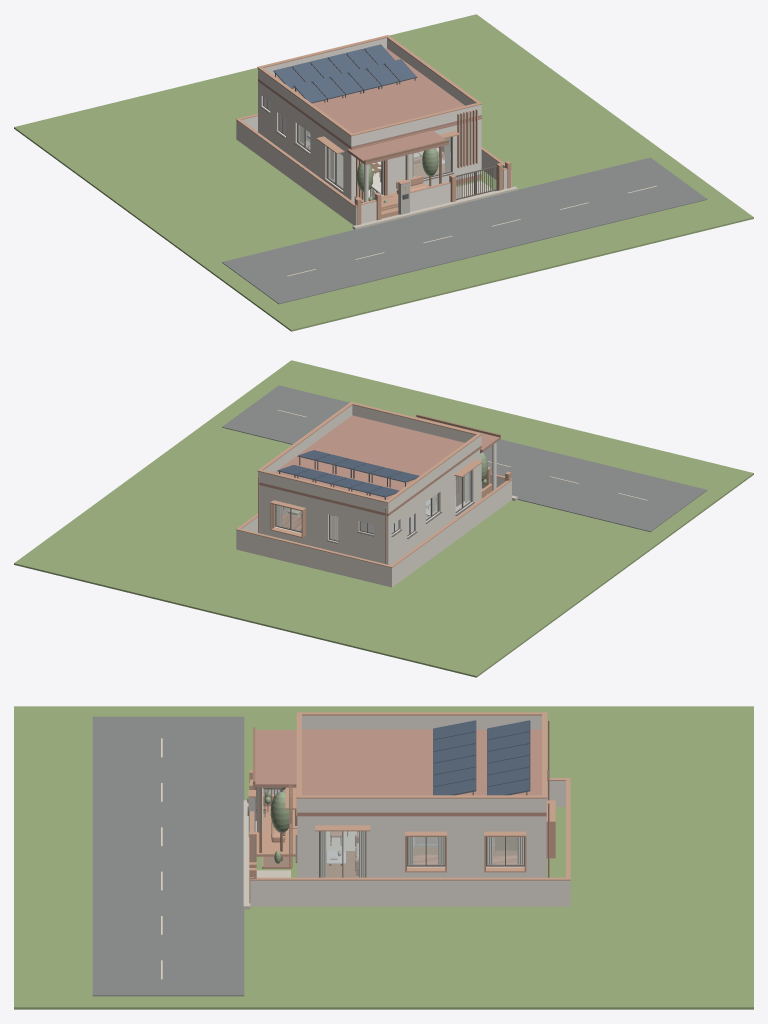
3 views of the same model, one above another, from view 1: azimuth 30°, elevation 25°; view 2: azimuth 150°, elevation 25°; view 3: azimuth 270°, elevation 25° (orthographic). The views are drawn at different scales.
Parts seen in each view (by area): view 1: world, roof-slab, parapet, coping, exterior-porch-01-roof, F0-W002/1, F0-W001/1; view 2: world, roof-slab, parapet, coping, F0-W009/0, F0-W001/1, F0-W018/2, F0-W018/1, F0-W009/2, F0-W003/0; view 3: world, roof-slab, parapet, coping, exterior-porch-01-roof, F0-W019/1, F0-W020/2, F0-W020/1, F0-W021/2, F0-W021/1, F0-W019/2, F0-W020/0 (+1 smaller).
Part boxes in pixels (<box>): world: <box>14,14,753,331</box>; roof-slab: <box>258,48,481,148</box>; parapet: <box>258,38,481,146</box>; coping: <box>257,35,481,136</box>; exterior-porch-01-roof: <box>347,130,448,164</box>; F0-W002/1: <box>355,130,481,195</box>; F0-W001/1: <box>315,132,355,197</box>; world: <box>14,360,753,677</box>; roof-slab: <box>259,415,481,516</box>; parapet: <box>258,405,481,513</box>; coping: <box>257,402,481,503</box>; F0-W009/0: <box>340,527,384,563</box>; F0-W001/1: <box>445,457,481,522</box>; F0-W018/2: <box>259,485,317,511</box>; F0-W018/1: <box>259,497,317,537</box>; F0-W009/2: <box>340,505,384,526</box>; F0-W003/0: <box>416,509,445,545</box>; world: <box>14,706,753,1009</box>; roof-slab: <box>297,729,546,816</box>; parapet: <box>297,715,546,812</box>; coping: <box>296,712,547,798</box>; exterior-porch-01-roof: <box>253,730,296,787</box>; F0-W019/1: <box>303,828,393,877</box>; F0-W020/2: <box>394,816,470,832</box>; F0-W020/1: <box>394,833,470,867</box>; F0-W021/2: <box>470,816,540,832</box>; F0-W021/1: <box>470,833,540,867</box>; F0-W019/2: <box>303,816,393,828</box>; F0-W020/0: <box>394,866,470,877</box>.
Bounding box in the file's own units: 27.14 × 4.38 × 28.19.
